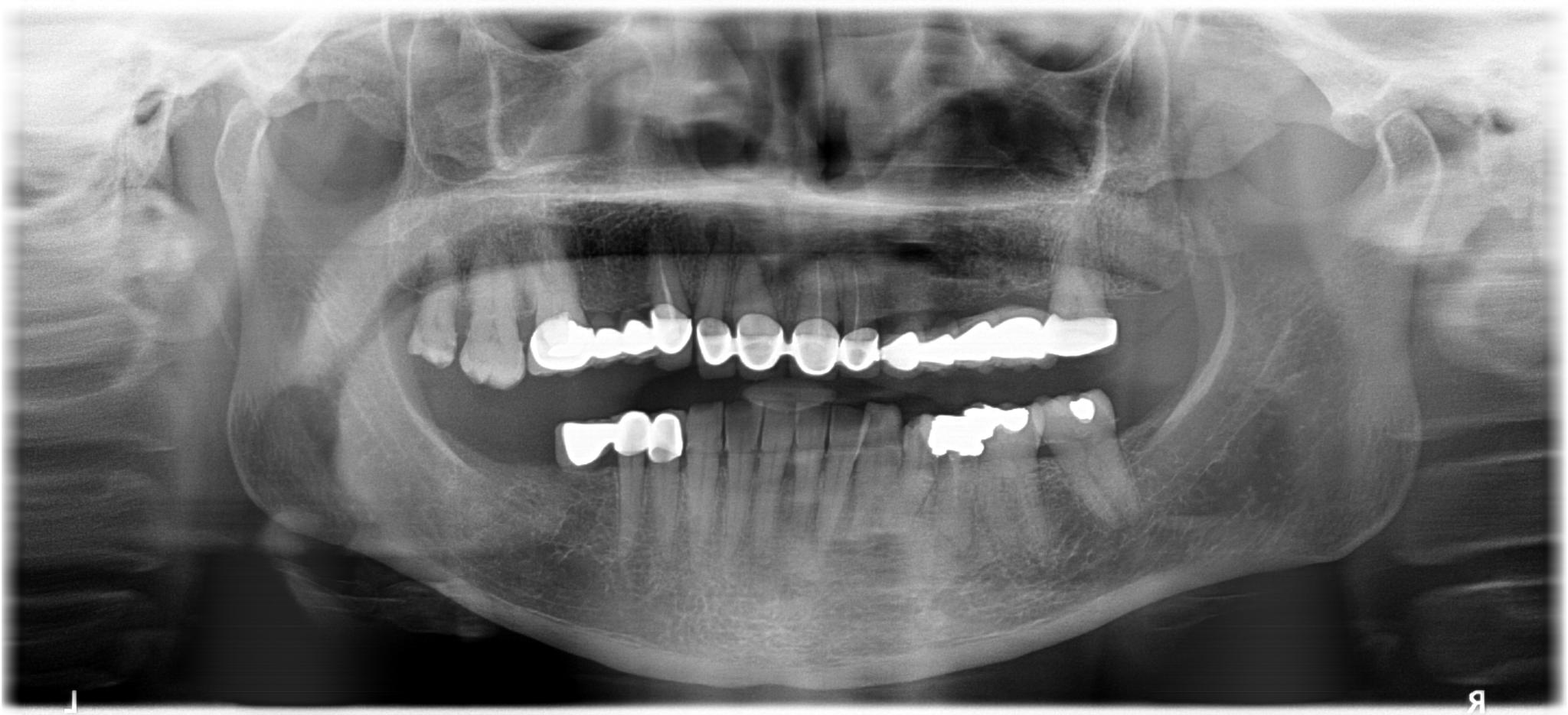Premolars: (233, 172, 696, 409)
